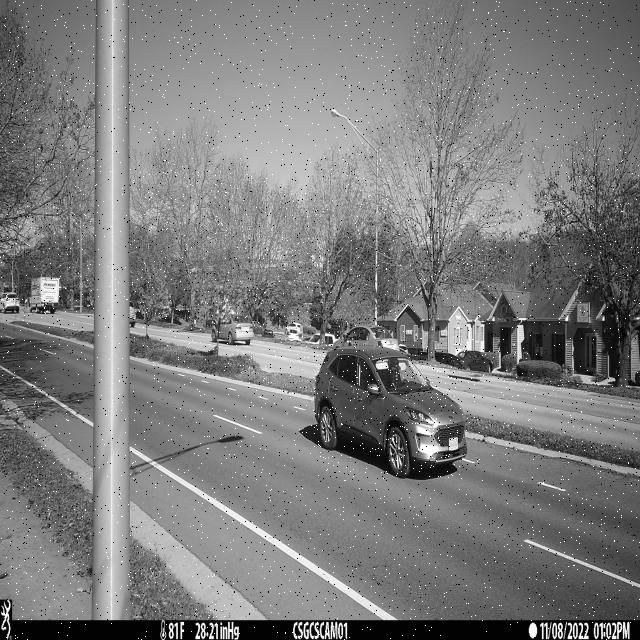SUV: (313, 343, 467, 479)
